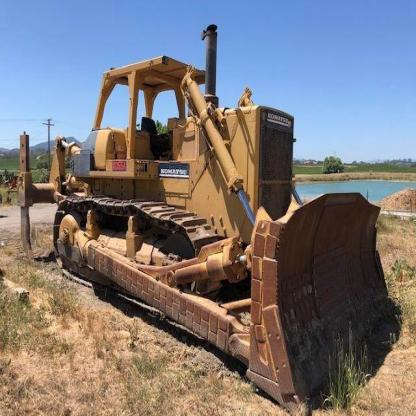bull_dozer/loader/grader: (14, 24, 396, 415)
